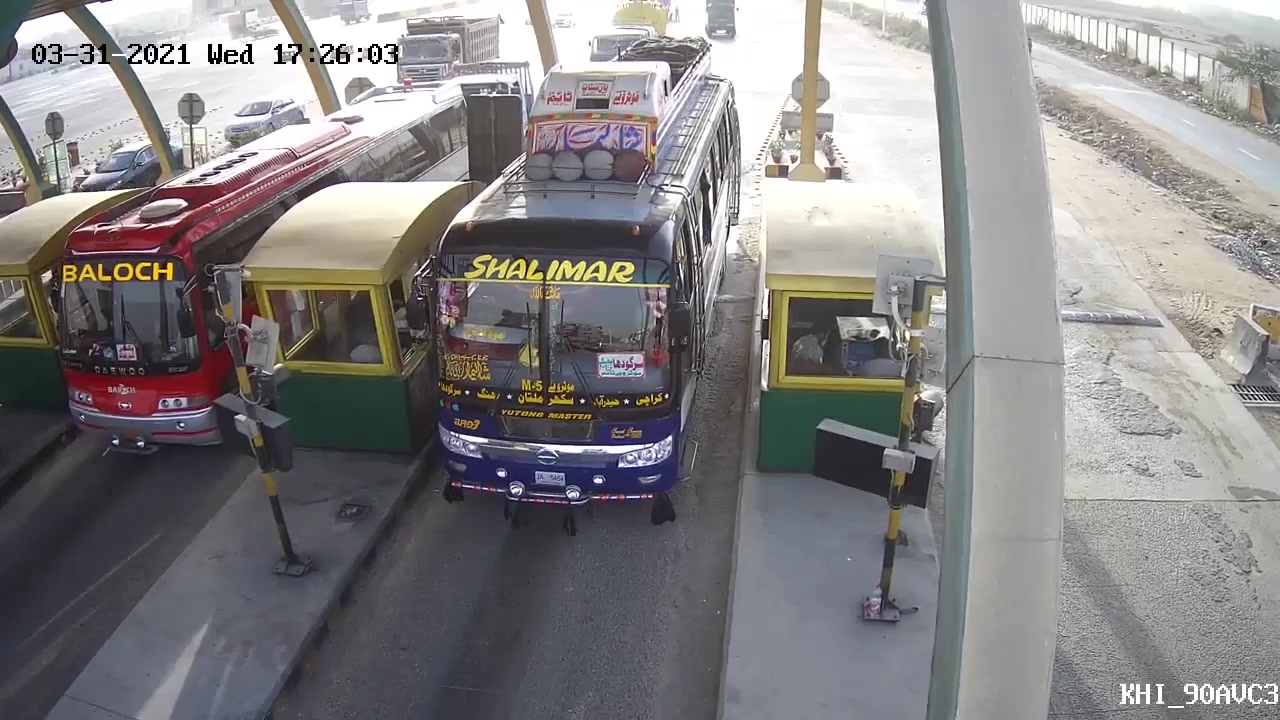F4: (414, 46, 742, 536)
